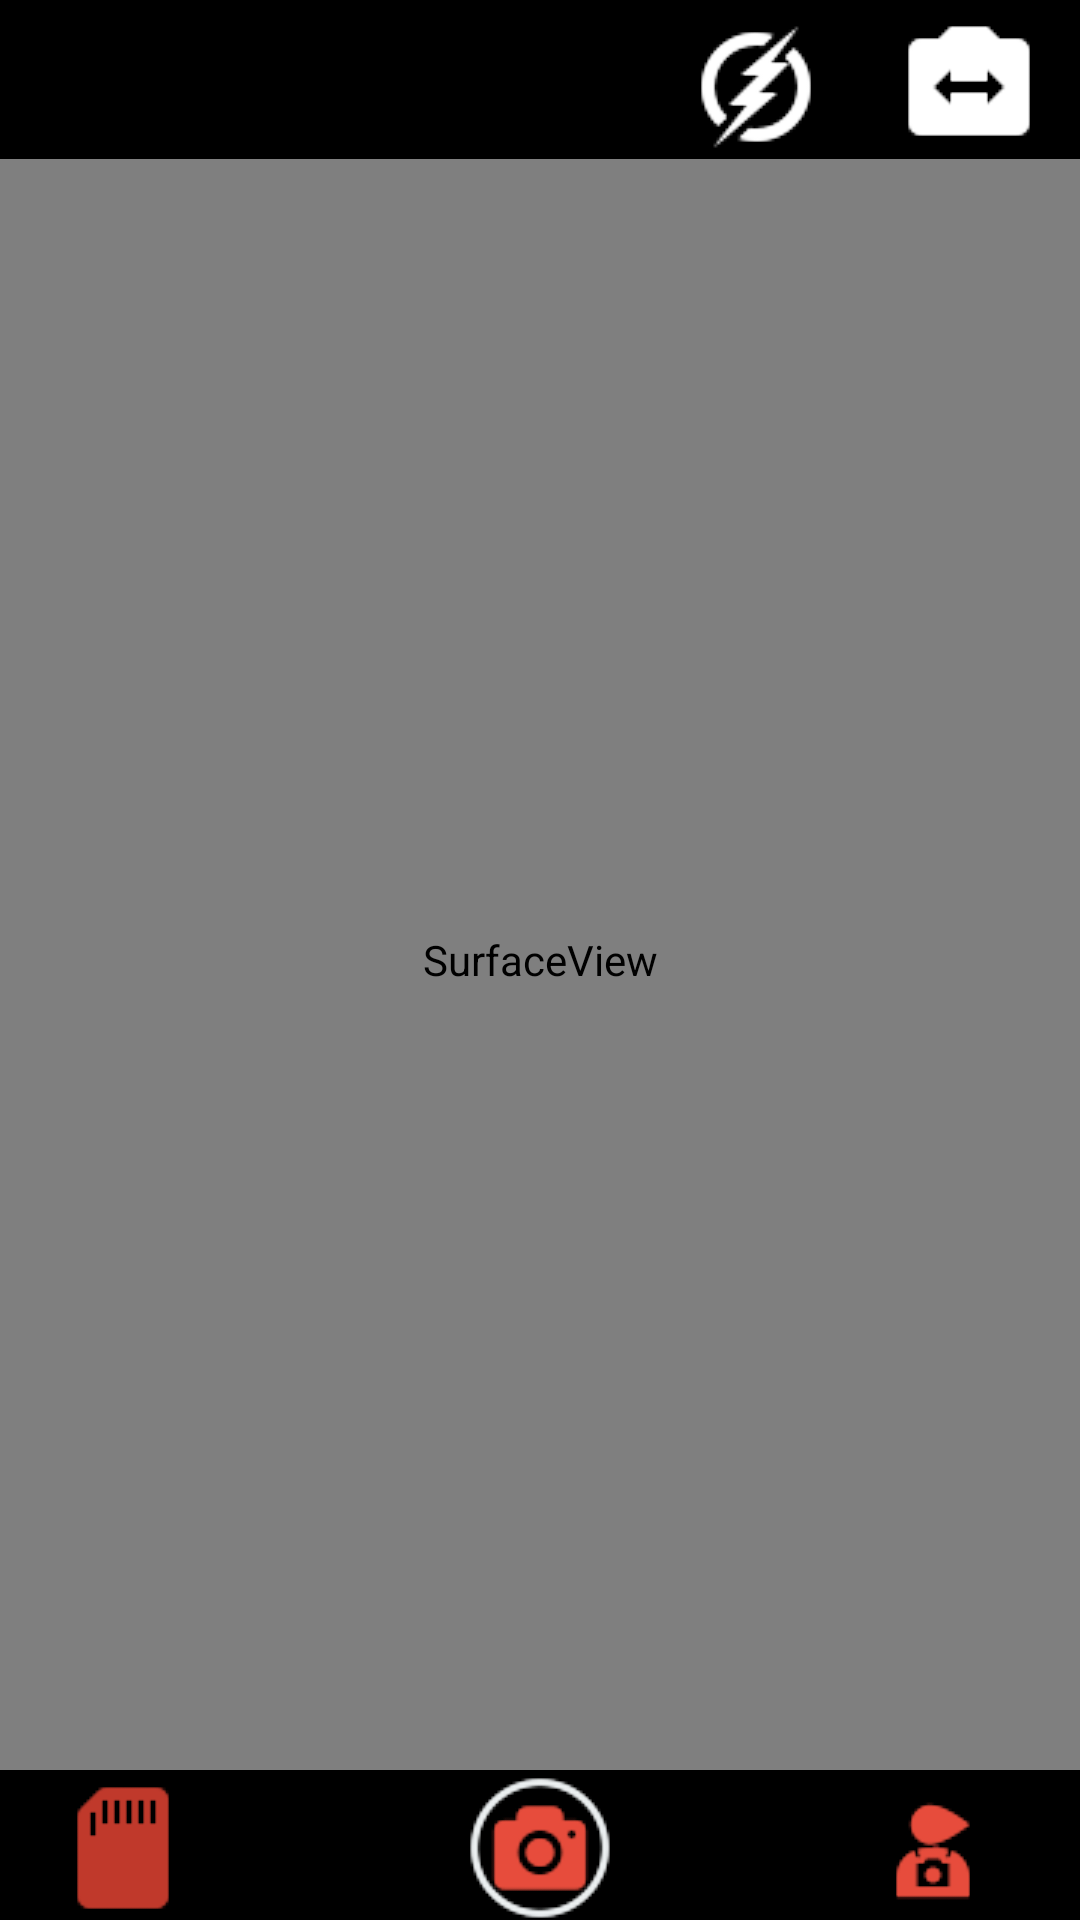

Icons on this 1080w x 1920h Android screen, each with the point to tap as [x,y]:
cam: [540,1848]
card: [123,1848]
chag: [969,81]
flash: [756,87]
